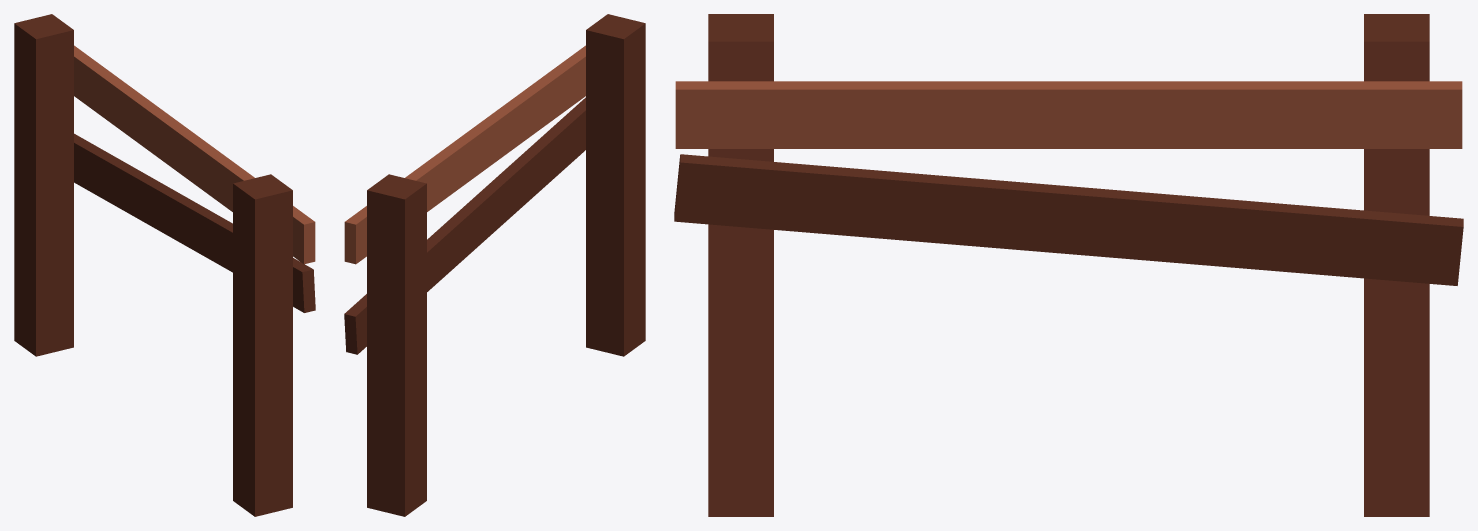
Rendered from SM_Barriers_03.fbx.
The picture shows the model from 3 angles, left to right: view 1: azimuth 30°, elevation 25°; view 2: azimuth 150°, elevation 25°; view 3: azimuth 270°, elevation 25°; orthographic projection. The views are drawn at different scales.
Visible parts, largest first — view 1: SM_Barriers_03; view 2: SM_Barriers_03; view 3: SM_Barriers_03.
Part boxes in pixels (x1,y1,x2,y2): SM_Barriers_03: (14, 14, 315, 516); SM_Barriers_03: (344, 14, 645, 516); SM_Barriers_03: (674, 14, 1463, 516).
Bounding box in the file's own units: 13.02 × 80 × 120.
